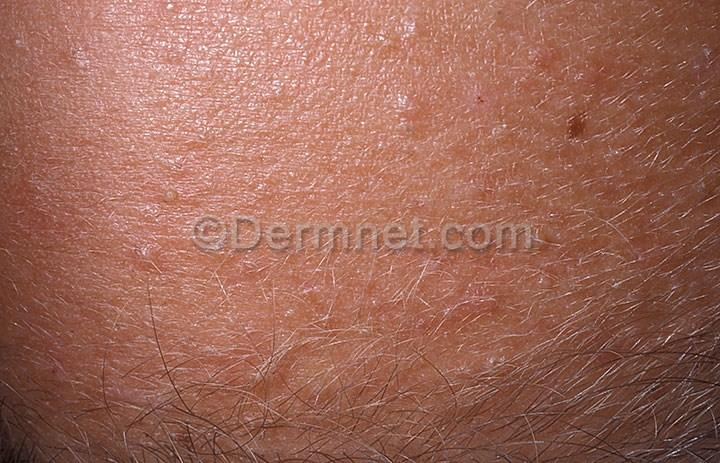Acne: (384, 6, 441, 150), (58, 37, 133, 88), (109, 235, 174, 291)
